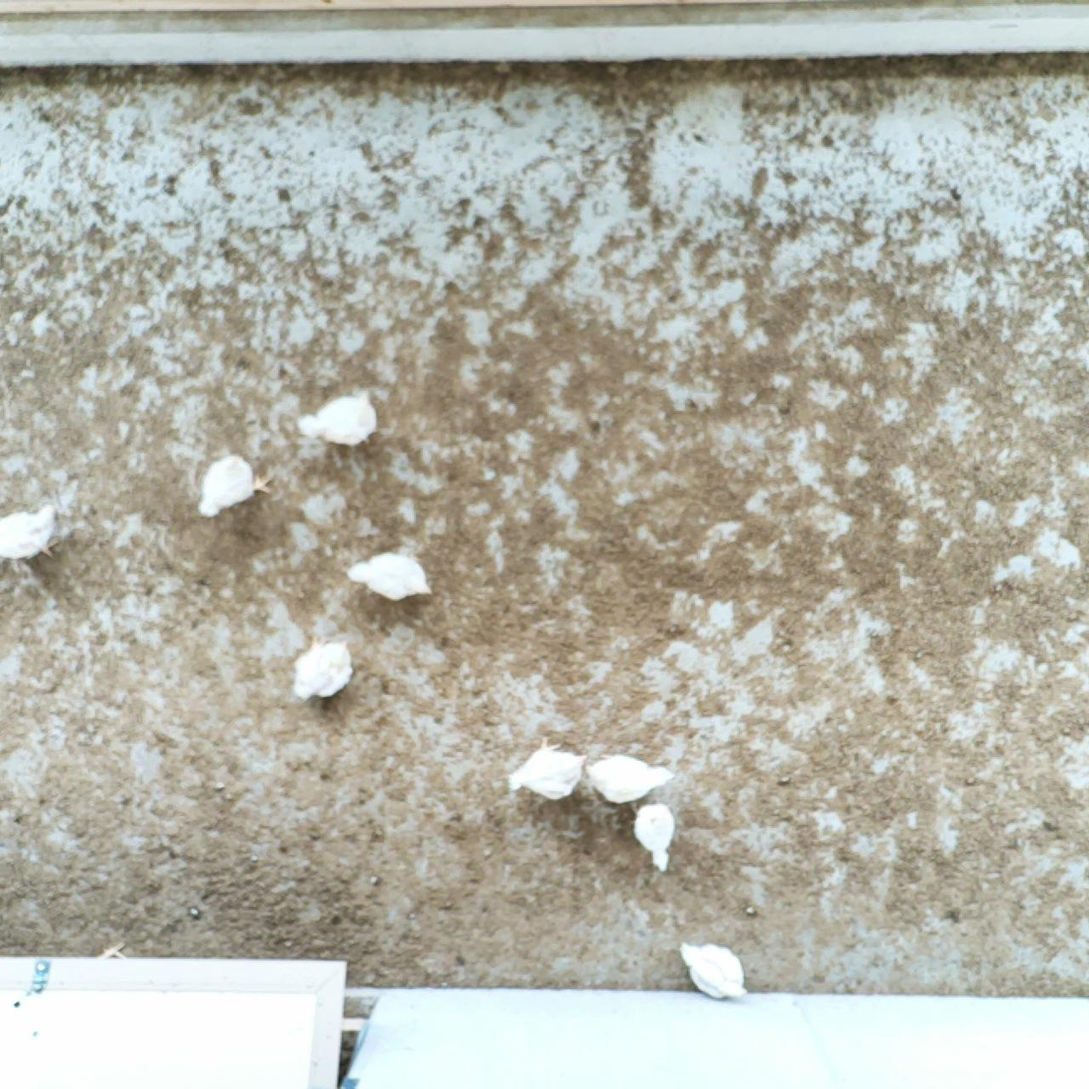chicken: (580, 742, 680, 810), (190, 442, 275, 521), (340, 542, 437, 606), (294, 384, 381, 454), (675, 932, 757, 1006), (513, 731, 587, 802), (290, 630, 356, 704), (623, 796, 681, 877), (0, 498, 66, 557)
